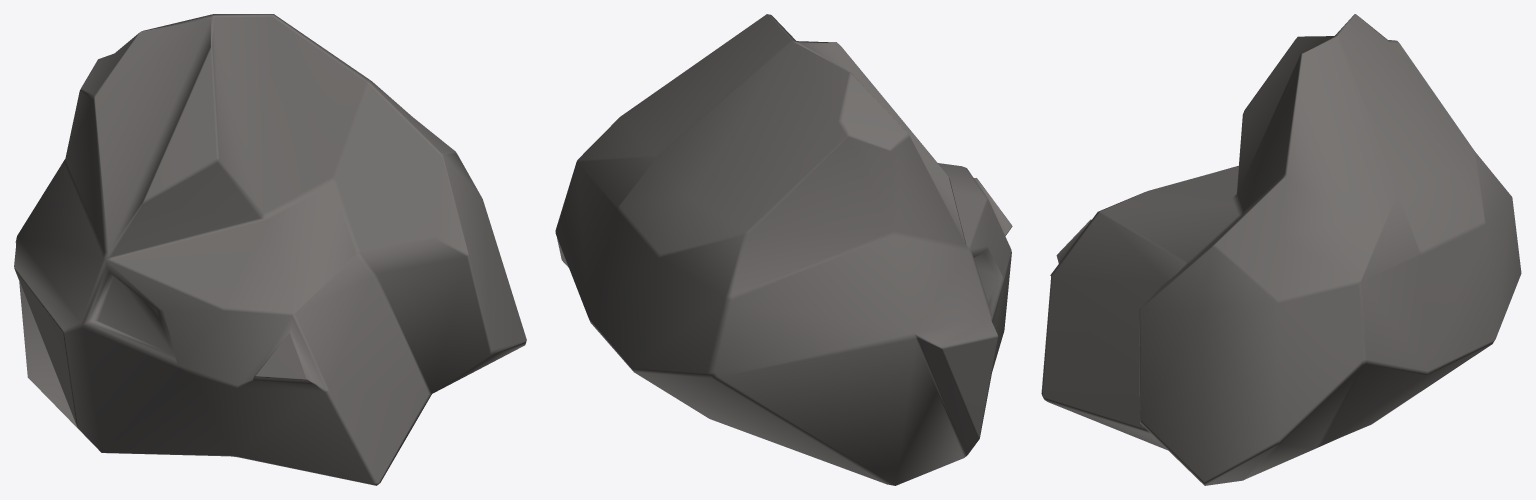
File: _asteroid_07.fbx
3 renders of one model, left to right at view 1: azimuth 30°, elevation 25°; view 2: azimuth 150°, elevation 25°; view 3: azimuth 270°, elevation 25°, orthographic. The views are drawn at different scales.
Parts seen in each view (by area): view 1: Аsteroid_07; view 2: Аsteroid_07; view 3: Аsteroid_07.
Part boxes in pixels (x1,y1,x2,y2): Аsteroid_07: [14, 14, 526, 485]; Аsteroid_07: [555, 14, 1012, 485]; Аsteroid_07: [1041, 14, 1521, 485].
Bounding box in the file's own units: 472 × 416 × 469.
Materials: 1 (1 with a texture image).
